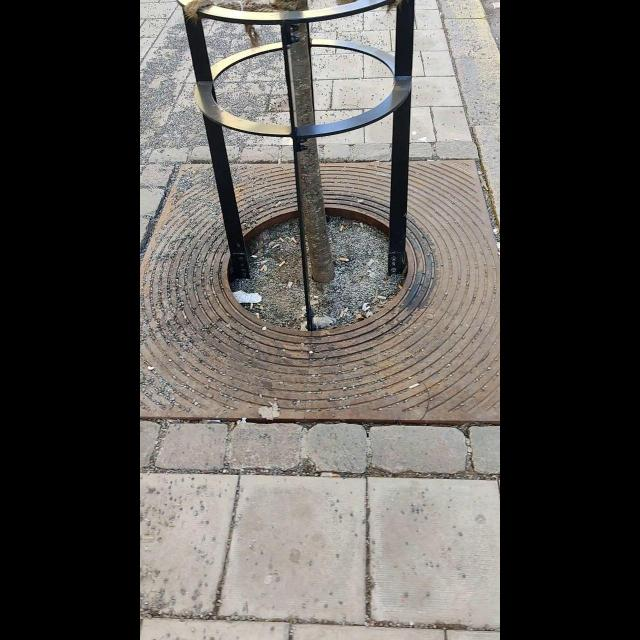cigarette: (408, 382, 420, 390), (340, 257, 350, 262), (286, 282, 292, 290), (292, 237, 298, 244), (339, 224, 344, 232), (339, 310, 344, 318), (279, 236, 284, 242), (260, 265, 264, 272), (378, 296, 387, 299), (280, 261, 284, 267), (256, 312, 260, 318), (250, 303, 253, 310), (398, 286, 403, 289)
